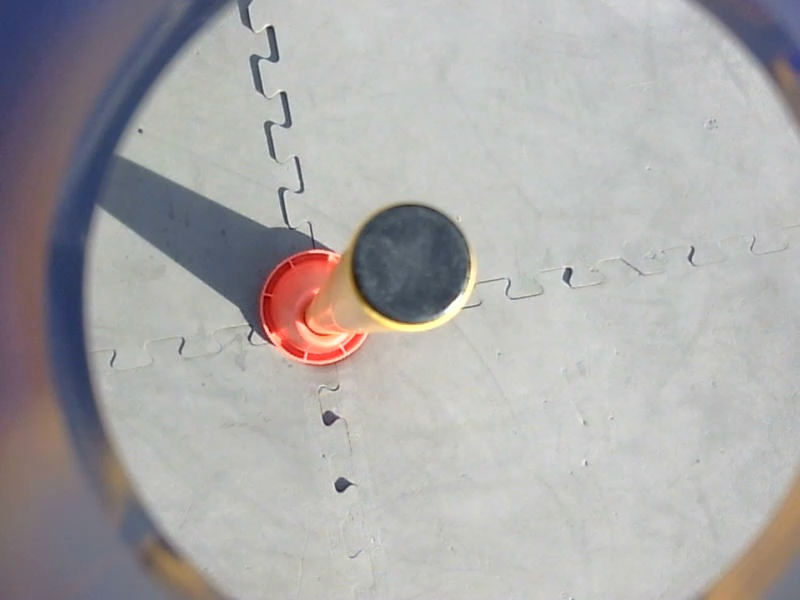tip: (334, 196, 483, 337)
